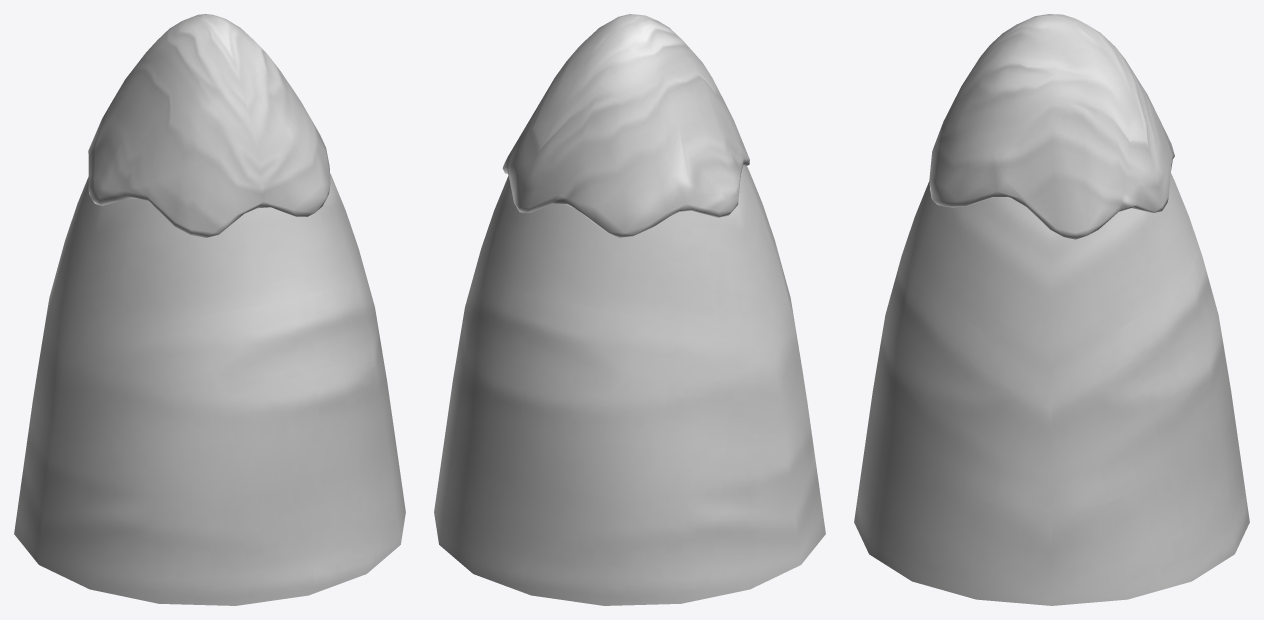
Rendered from Mountain 1.fbx.
The picture shows the model from 3 angles, left to right: view 1: azimuth 30°, elevation 25°; view 2: azimuth 150°, elevation 25°; view 3: azimuth 270°, elevation 25°; orthographic projection.
Parts seen in each view (by area): view 1: Mountain, Mountain Icing; view 2: Mountain, Mountain Icing; view 3: Mountain, Mountain Icing.
Part boxes in pixels (x1,y1,x2,y2): Mountain: (14,173,405,605); Mountain Icing: (88,14,330,237); Mountain: (434,165,825,605); Mountain Icing: (502,14,749,237); Mountain: (854,173,1249,605); Mountain Icing: (929,14,1174,239).
Bounding box in the file's own units: 1452 × 2039 × 1452.
Materials: 2 (2 with a texture image).
